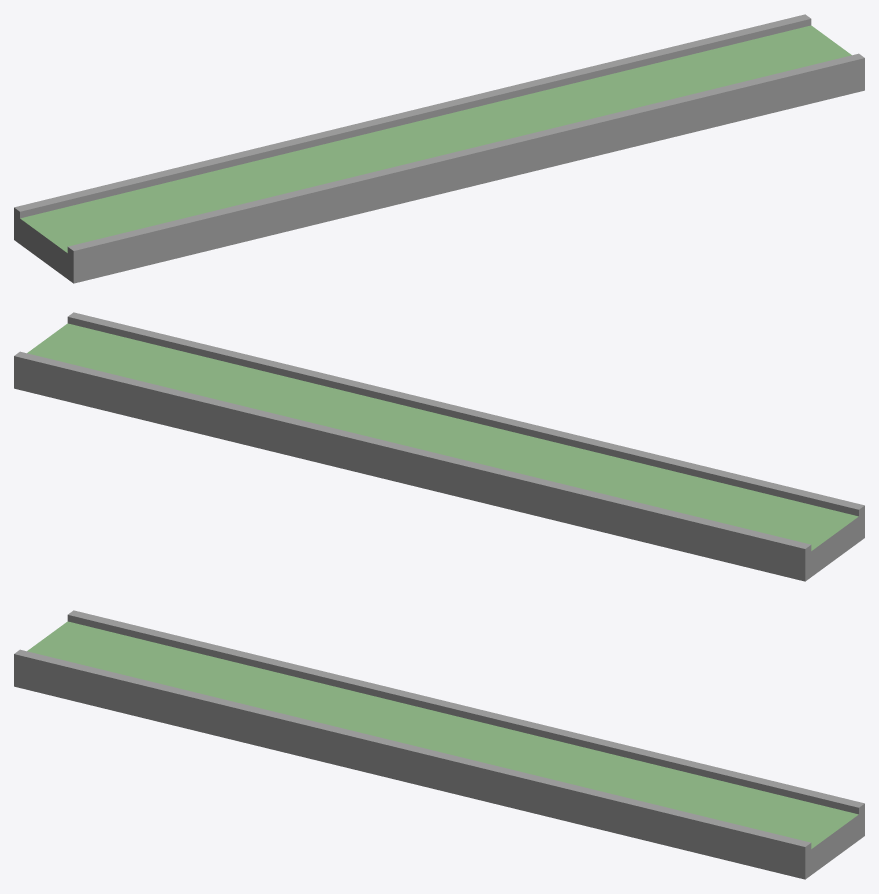
Rendered from MedianStraight.fbx.
3 views of the same model, one above another, from view 1: azimuth 30°, elevation 25°; view 2: azimuth 150°, elevation 25°; view 3: azimuth 330°, elevation 25° (orthographic).
Parts seen in each view (by area): view 1: polySurface13; view 2: polySurface13; view 3: polySurface13.
Boxes of the visible parts, x1,y1,x2,y2 form: polySurface13: (14,14,864,283); polySurface13: (14,312,864,581); polySurface13: (14,610,864,879).
Bounding box in the file's own units: 15.31 × 0.6018 × 2.
